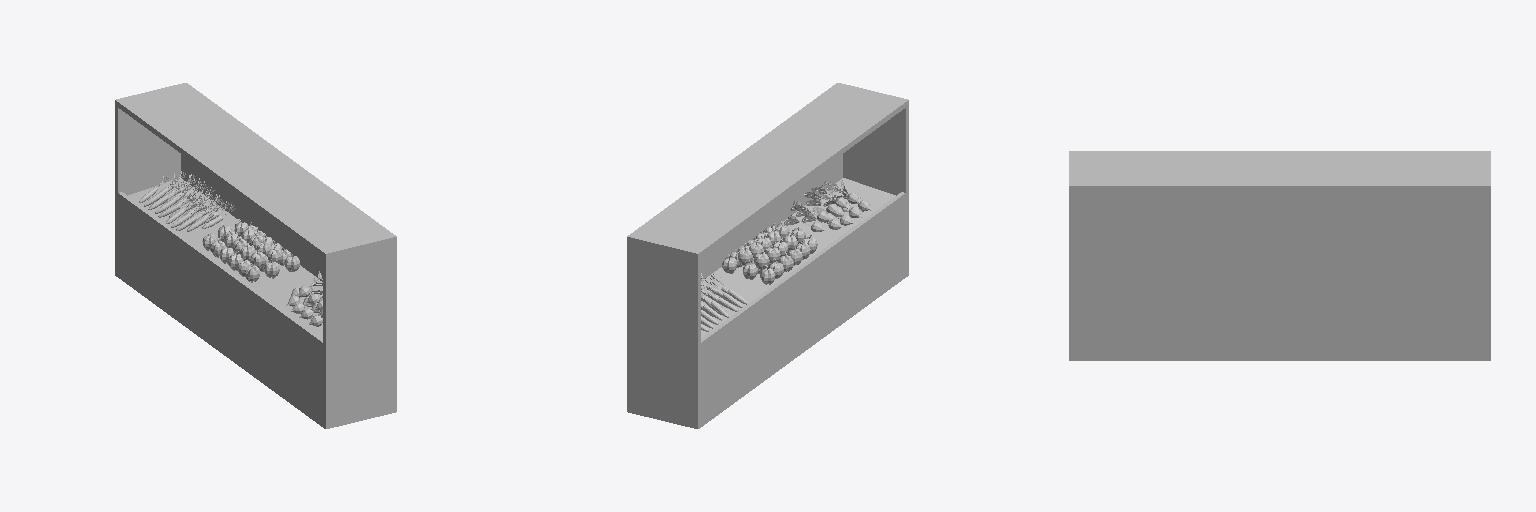
Rendered from FreshWall.obj.
The picture shows the model from 3 angles: view 1: azimuth 30°, elevation 25°; view 2: azimuth 150°, elevation 25°; view 3: azimuth 270°, elevation 25°; orthographic projection.
Visible parts, largest first — view 1: Fresh_case; view 2: Fresh_case; view 3: Fresh_case.
Boxes of the visible parts, x1,y1,x2,y2 form: Fresh_case: [115, 83, 396, 428]; Fresh_case: [627, 83, 908, 428]; Fresh_case: [1069, 151, 1490, 360].
Bounding box in the file's own units: 1 × 2.36 × 5.13.